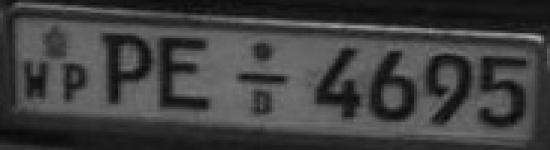-: (232, 69, 295, 92)
4: (312, 40, 367, 123)
5: (478, 50, 532, 134)
6: (367, 45, 420, 122)
9: (423, 48, 478, 130)
E: (154, 30, 219, 120)
P: (97, 25, 156, 110), (57, 61, 93, 108)
W: (20, 57, 53, 106)
